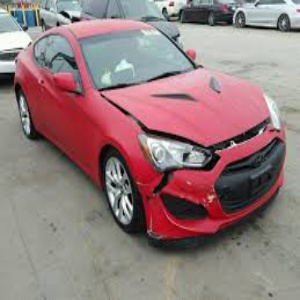bonnet: (150, 70, 256, 135)
bumper_scratch: (138, 170, 224, 250)
